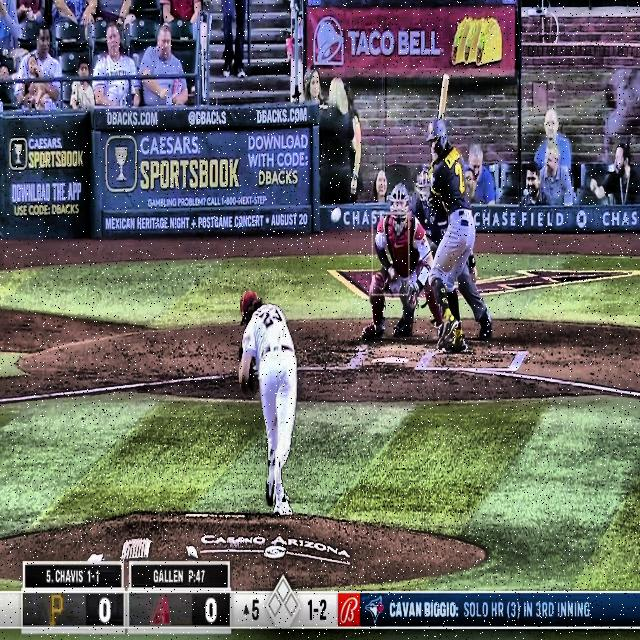baseball: (331, 207, 341, 223)
